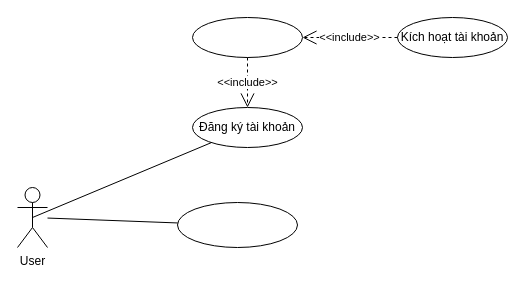
This 525x286 diagram has some shape labels left out. Each missing label, with the centre of its shape:
"Gửi link kích hoạt" goes at [247,37].
"Đăng nhập" goes at [237,225].
